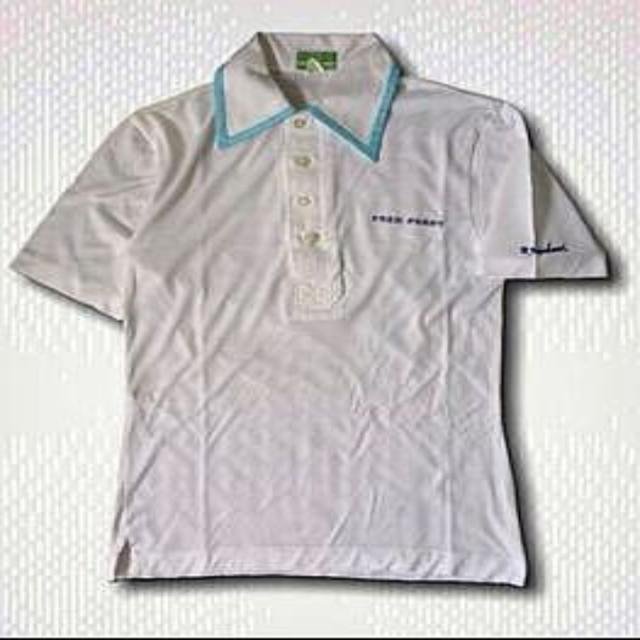T_SHIRT: (0, 19, 623, 604)
